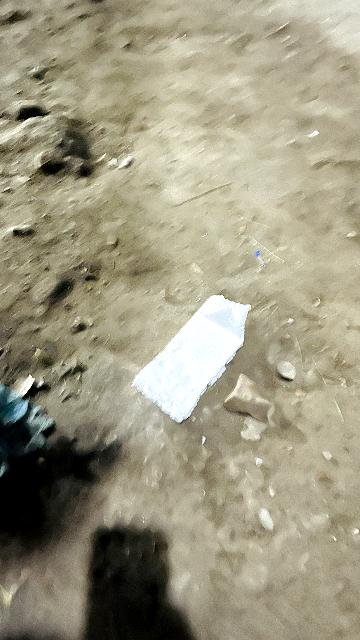cocksheet: (117, 274, 278, 436)
